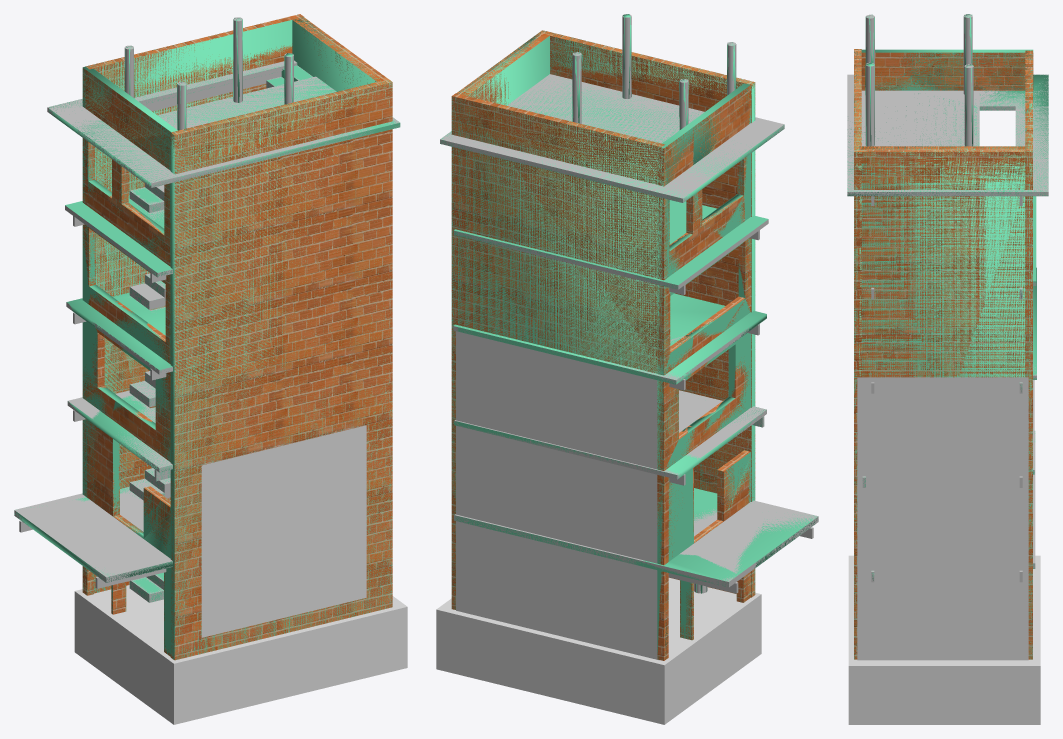
Rendered from CASA TESTE.fbx.
3 renders of one model, left to right at view 1: azimuth 30°, elevation 25°; view 2: azimuth 150°, elevation 25°; view 3: azimuth 270°, elevation 25°, orthographic. The views are drawn at different scales.
Parts seen in each view (by area): view 1: CASA17_LOD0, UTM_CASA17, Plane, Cube_LOD0; view 2: CASA17_LOD0, UTM_CASA17, OCC_Oclusion1, Cube_LOD0; view 3: CASA17_LOD0, OCC_Oclusion2, UTM_CASA17, Cube_LOD0.
Boxes of the visible parts, x1,y1,x2,y2 form: CASA17_LOD0: [14, 14, 399, 660]; UTM_CASA17: [14, 17, 400, 659]; Plane: [201, 425, 366, 637]; Cube_LOD0: [74, 585, 407, 724]; CASA17_LOD0: [440, 14, 818, 660]; UTM_CASA17: [440, 14, 817, 659]; OCC_Oclusion1: [456, 331, 659, 660]; Cube_LOD0: [436, 577, 761, 724]; CASA17_LOD0: [847, 14, 1048, 659]; OCC_Oclusion2: [857, 377, 1028, 660]; UTM_CASA17: [847, 14, 1048, 659]; Cube_LOD0: [848, 555, 1040, 724].
Size of what is drawn, in the model's own units: 1022 by 2062 by 616.
